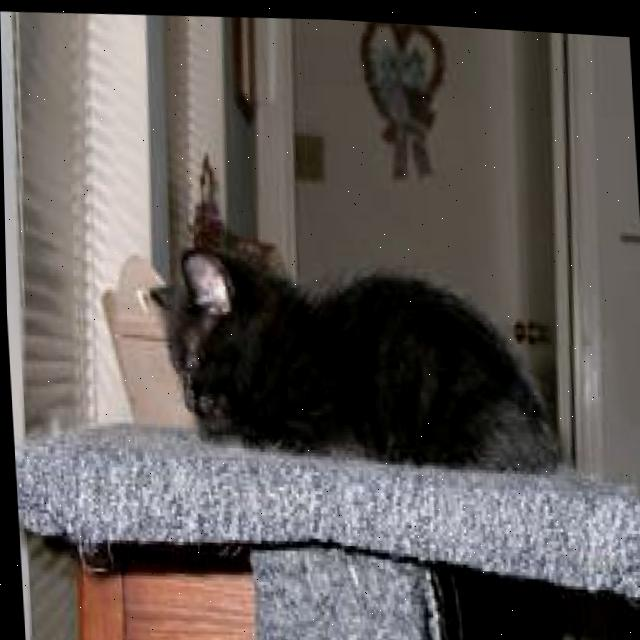Bombay: (139, 216, 566, 496)
